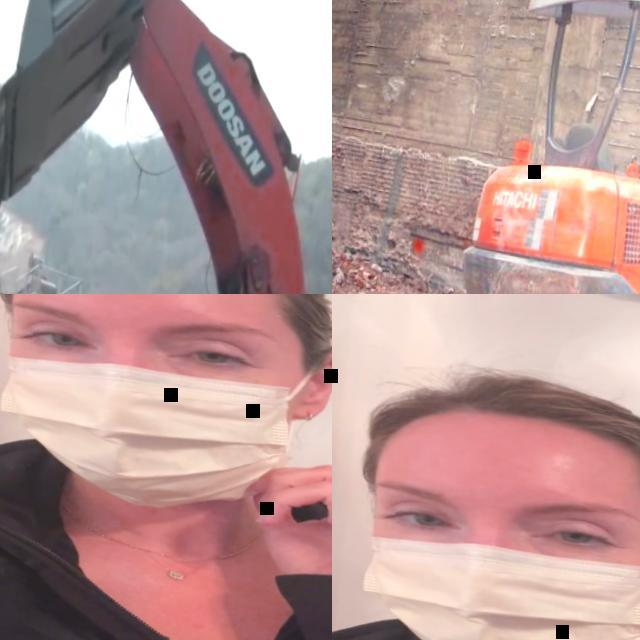Robbery: (0, 295, 327, 640), (355, 331, 640, 640)
